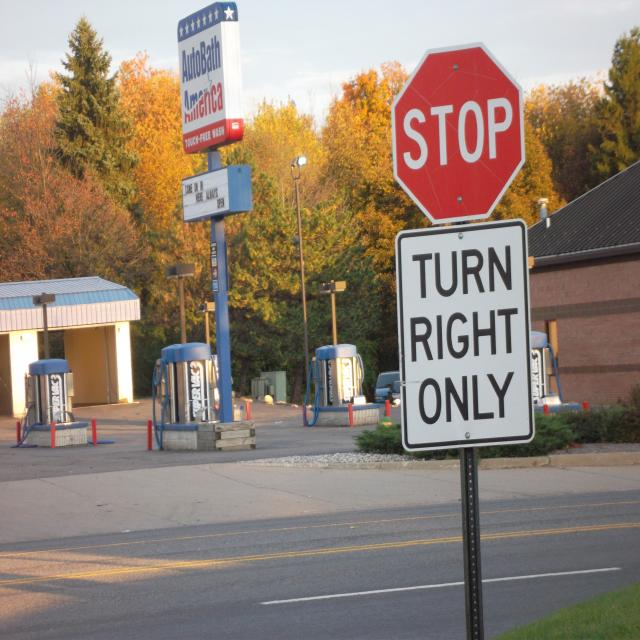regulatory: (396, 221, 537, 456)
stop: (392, 43, 526, 225)
